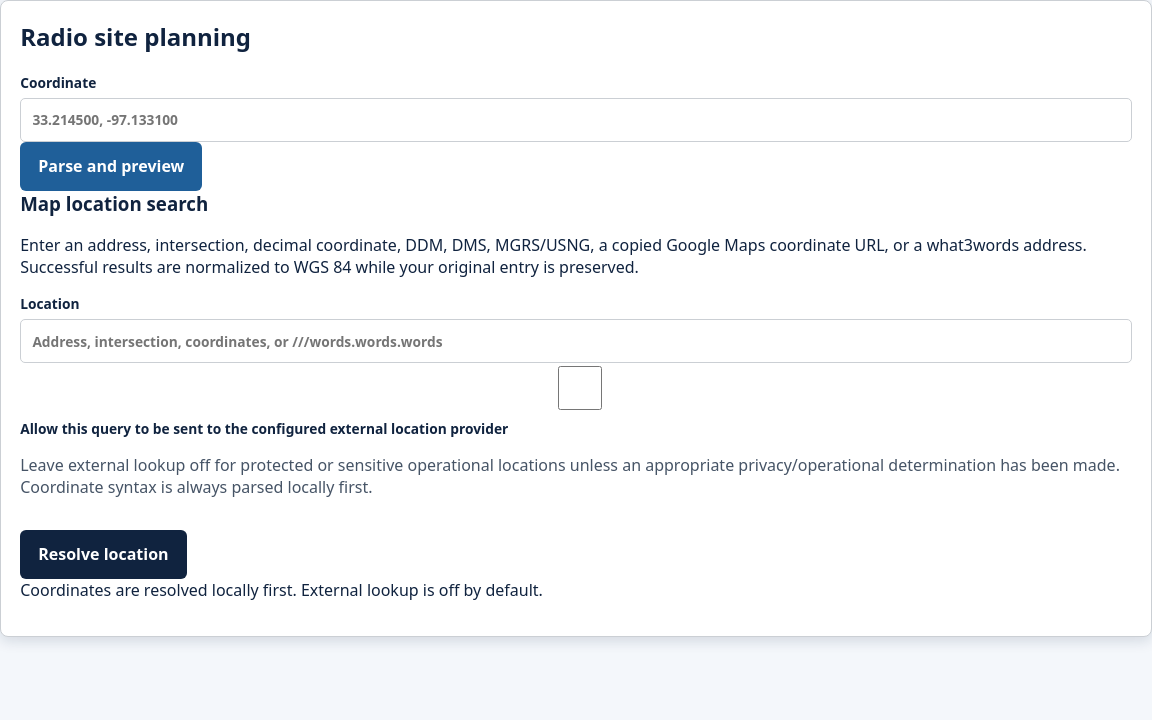
Test: requires an explicit operator choice before external lookup
Type "Alpha Rd & Bravo St" into the field labelled "Location" at (576, 341), box [20,319,1132,363]
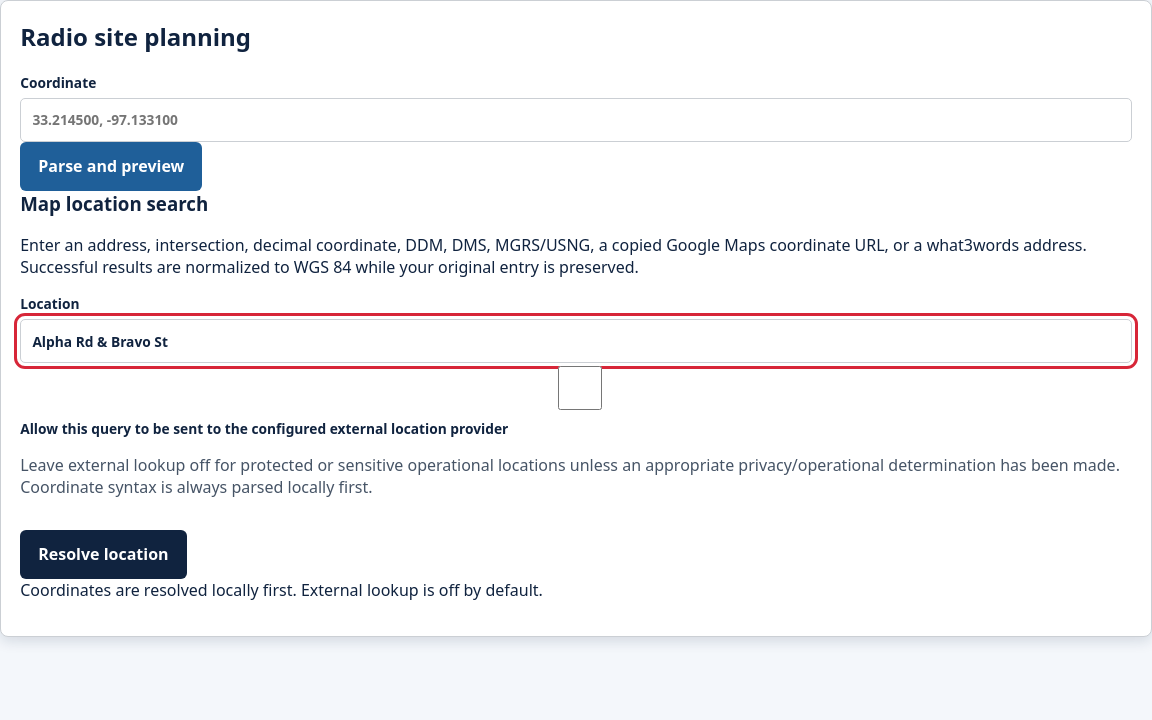
Click the button "Resolve location" at (103, 554), box [20,530,187,579]
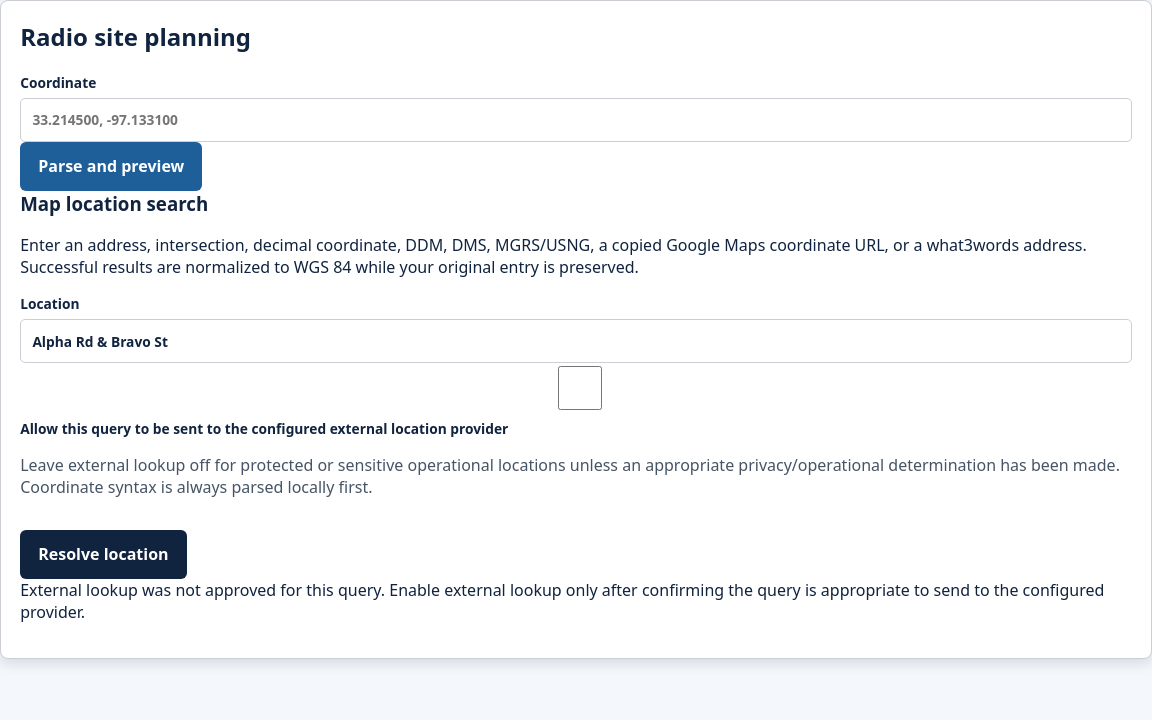
expect the text "protected or sensitive operational locations" is shown: met, box [20,454,1120,498]
expect the text "External lookup was not approved" is shown: met, box [20,579,1104,623]
